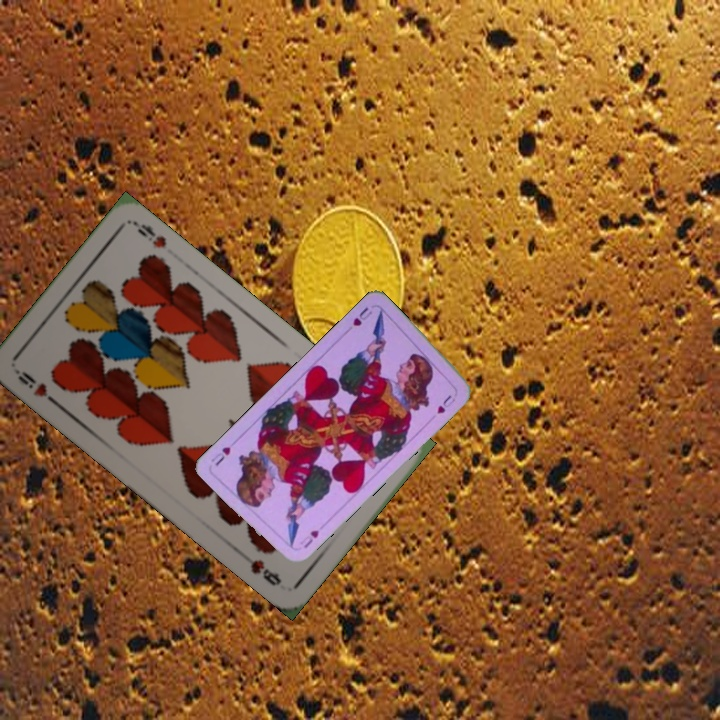H9: (11, 365, 61, 408)
HU: (342, 303, 375, 335), (296, 526, 322, 551)
